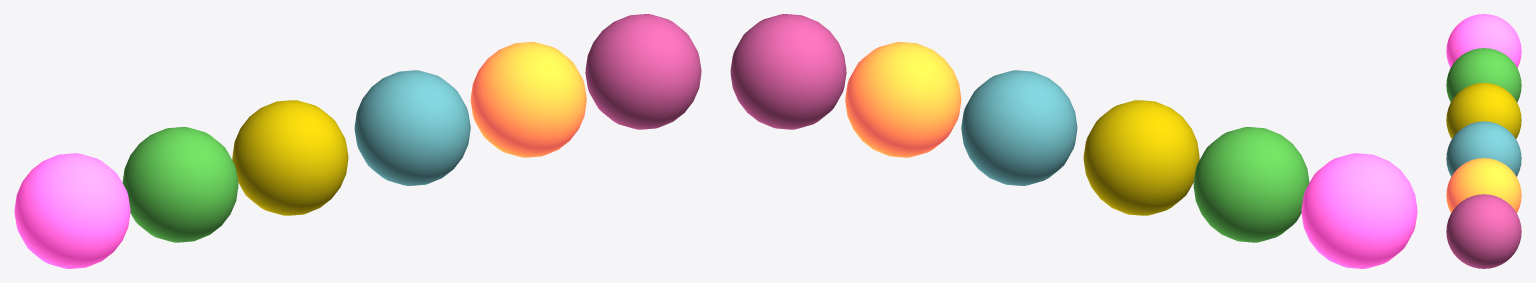
Rendered from simple_006_Common_Profile_Material_00.dae.
3 views of the same model, side by side, from view 1: azimuth 30°, elevation 25°; view 2: azimuth 150°, elevation 25°; view 3: azimuth 270°, elevation 25° (orthographic). The views are drawn at different scales.
Parts seen in each view (by area): view 1: pSphere2, pSphere3, pSphere6, pSphere5, pSphere1, pSphere4; view 2: pSphere2, pSphere3, pSphere6, pSphere5, pSphere1, pSphere4; view 3: pSphere6, pSphere1, pSphere2, pSphere5, pSphere4, pSphere3.
Part boxes in pixels (bbox=[...]): pSphere2: bbox=[354, 70, 470, 185]; pSphere3: bbox=[14, 153, 130, 268]; pSphere6: bbox=[585, 14, 701, 129]; pSphere5: bbox=[470, 42, 586, 157]; pSphere1: bbox=[232, 100, 348, 215]; pSphere4: bbox=[122, 127, 238, 242]; pSphere2: bbox=[961, 70, 1077, 185]; pSphere3: bbox=[1301, 153, 1417, 268]; pSphere6: bbox=[730, 14, 846, 129]; pSphere5: bbox=[845, 42, 961, 157]; pSphere1: bbox=[1083, 100, 1199, 215]; pSphere4: bbox=[1193, 127, 1309, 242]; pSphere6: bbox=[1446, 194, 1521, 268]; pSphere1: bbox=[1446, 83, 1521, 138]; pSphere2: bbox=[1446, 121, 1521, 176]; pSphere5: bbox=[1446, 158, 1521, 212]; pSphere4: bbox=[1446, 48, 1521, 102]; pSphere3: bbox=[1446, 14, 1521, 67].
Bounding box in the file's own units: 13.34 × 2 × 2.
